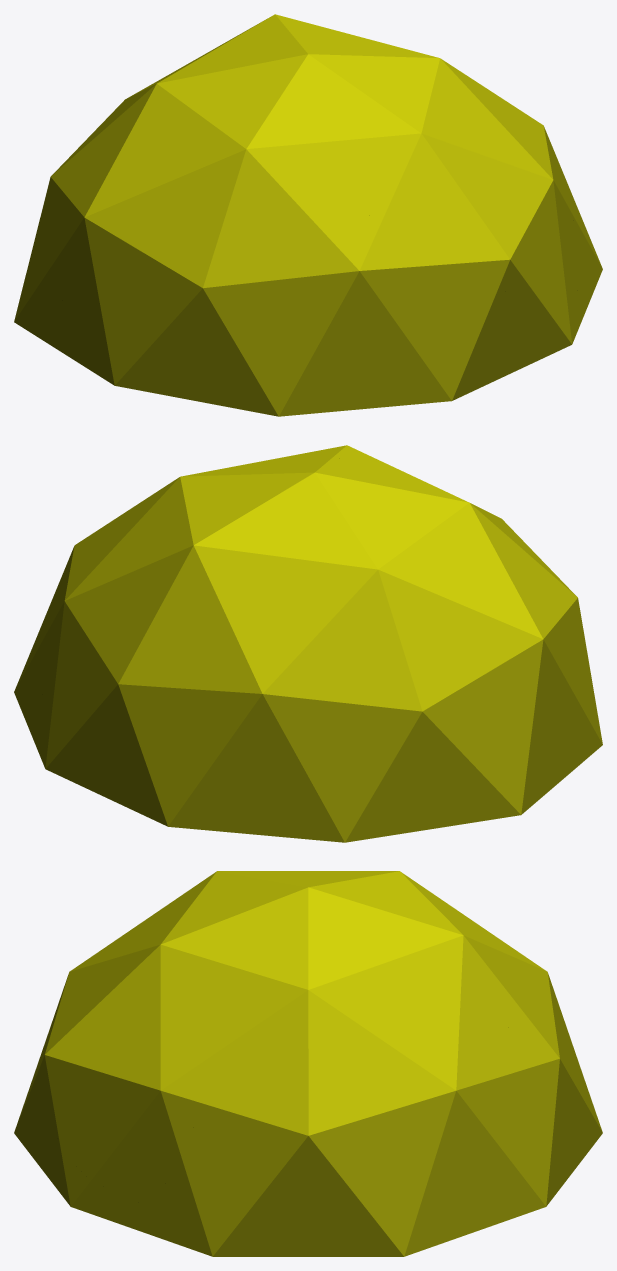
The model's file is Cockpit.FBX.
The picture shows the model from 3 angles, top to bottom: view 1: azimuth 30°, elevation 25°; view 2: azimuth 150°, elevation 25°; view 3: azimuth 270°, elevation 25°; orthographic projection. The views are drawn at different scales.
Parts seen in each view (by area): view 1: tyFlow_node_015, tyFlow_node_006, tyFlow_node_016, tyFlow_node_008, tyFlow_node_004, tyFlow_node_019, tyFlow_node_018, tyFlow_node_012, tyFlow_node_009, tyFlow_node_007, tyFlow_node_014, tyFlow_node_017 (+1 smaller); view 2: tyFlow_node_014, tyFlow_node_017, tyFlow_node_016, tyFlow_node_012, tyFlow_node_011, tyFlow_node_003, tyFlow_node_013, tyFlow_node_018, tyFlow_node_015, tyFlow_node_002, tyFlow_node_001, tyFlow_node_010 (+3 smaller); view 3: tyFlow_node_007, tyFlow_node_004, tyFlow_node_001, tyFlow_node_019, tyFlow_node_018, tyFlow_node_014, tyFlow_node_011, tyFlow_node_002, tyFlow_node_006, tyFlow_node_010, tyFlow_node_009, tyFlow_node_008 (+1 smaller).
Boxes of the visible parts, x1,y1,x2,y2 form: tyFlow_node_015: (39, 237, 390, 416); tyFlow_node_006: (358, 163, 590, 406); tyFlow_node_016: (83, 57, 285, 254); tyFlow_node_008: (169, 81, 379, 268); tyFlow_node_004: (446, 127, 582, 312); tyFlow_node_019: (352, 51, 501, 164); tyFlow_node_018: (263, 27, 412, 131); tyFlow_node_012: (31, 119, 115, 323); tyFlow_node_009: (415, 144, 518, 289); tyFlow_node_007: (482, 85, 602, 298); tyFlow_node_014: (142, 14, 324, 89); tyFlow_node_017: (14, 245, 41, 337); tyFlow_node_014: (123, 508, 315, 757); tyFlow_node_017: (199, 732, 541, 842); tyFlow_node_016: (309, 484, 558, 651); tyFlow_node_012: (377, 629, 560, 782); tyFlow_node_011: (25, 690, 201, 829); tyFlow_node_003: (259, 672, 526, 773); tyFlow_node_013: (218, 600, 387, 741); tyFlow_node_018: (121, 457, 385, 541); tyFlow_node_015: (502, 519, 602, 797); tyFlow_node_002: (45, 575, 125, 690); tyFlow_node_001: (14, 535, 121, 718); tyFlow_node_010: (97, 536, 172, 635); tyFlow_node_007: (152, 1044, 360, 1256); tyFlow_node_004: (41, 973, 223, 1207); tyFlow_node_001: (353, 1040, 481, 1256); tyFlow_node_019: (138, 914, 384, 1055); tyFlow_node_018: (193, 882, 418, 1040); tyFlow_node_014: (354, 889, 575, 1060); tyFlow_node_011: (453, 1058, 602, 1239); tyFlow_node_002: (433, 1036, 561, 1173); tyFlow_node_006: (14, 938, 156, 1236); tyFlow_node_010: (387, 969, 517, 1057); tyFlow_node_009: (38, 955, 157, 1077); tyFlow_node_008: (72, 873, 284, 969).
Bounding box in the file's own units: 66.35 × 30.84 × 66.88.
